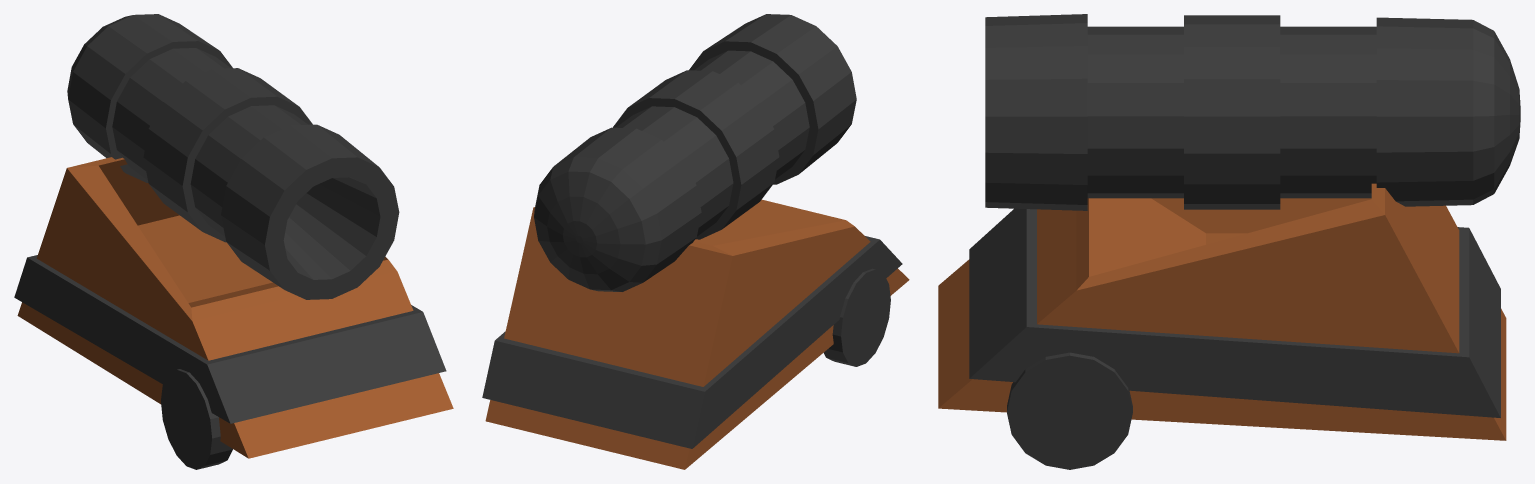
File: Cannon.fbx
3 renders of one model, left to right at view 1: azimuth 30°, elevation 25°; view 2: azimuth 150°, elevation 25°; view 3: azimuth 270°, elevation 25°, orthographic. The views are drawn at different scales.
Parts seen in each view (by area): view 1: Cannon; view 2: Cannon; view 3: Cannon.
Part boxes in pixels (x1,y1,x2,y2): Cannon: (14,14,453,469); Cannon: (482,14,909,469); Cannon: (938,14,1520,469).
Size of the model in its own units: 131 by 173 by 240.
